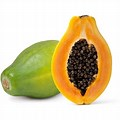papaya: (51, 15, 113, 104)
